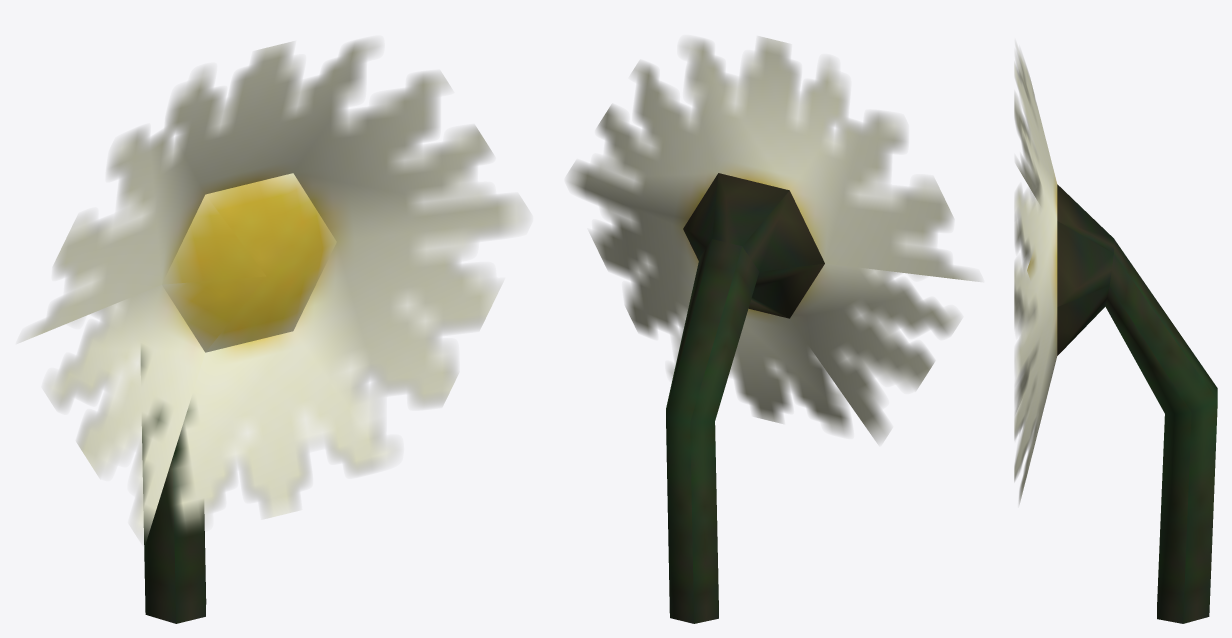
3 views of the same model, side by side, from view 1: azimuth 30°, elevation 25°; view 2: azimuth 150°, elevation 25°; view 3: azimuth 270°, elevation 25° (orthographic). The views are drawn at different scales.
Visible parts, largest first — view 1: root; view 2: root; view 3: root.
Part boxes in pixels (<box>): root: <box>19,40,528,623</box>; root: <box>567,37,980,623</box>; root: <box>1014,44,1217,623</box>.
Bounding box in the file's own units: 1.19 × 1.39 × 0.4707.
2 materials, 2 textured.
